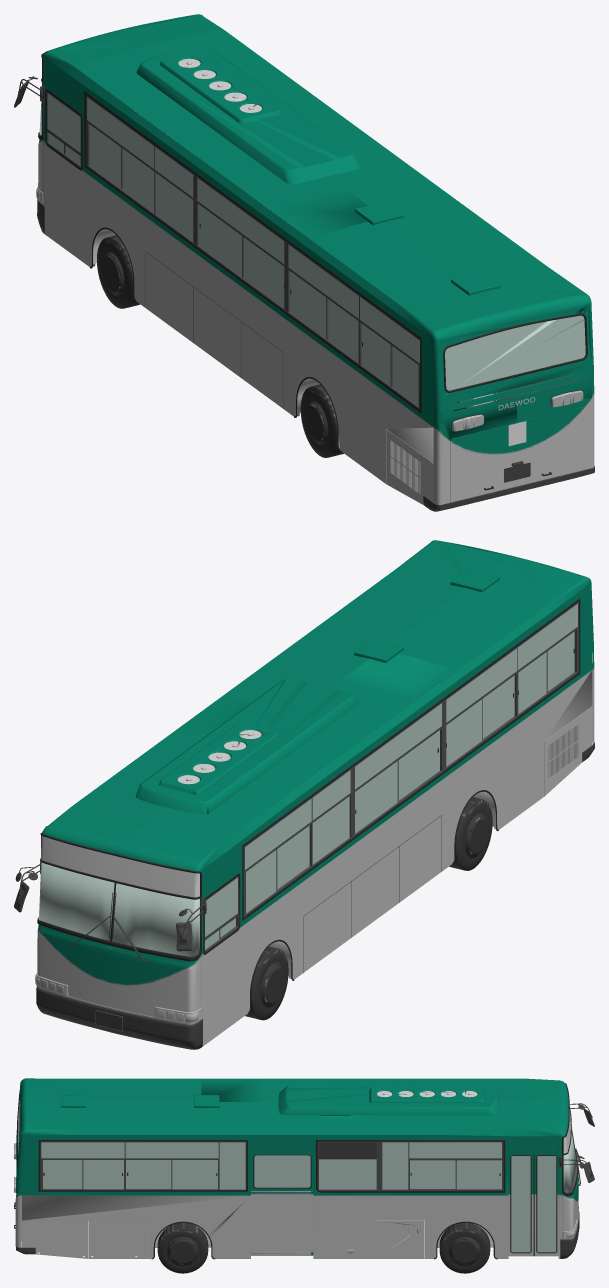
The model's file is Bus_mid.glb.
The picture shows the model from 3 angles, top to bottom: view 1: azimuth 30°, elevation 25°; view 2: azimuth 150°, elevation 25°; view 3: azimuth 270°, elevation 25°; orthographic projection. The views are drawn at different scales.
Parts seen in each view (by area): view 1: Bus_1; view 2: Bus_1; view 3: Bus_1.
Boxes of the visible parts, x1,y1,x2,y2 form: Bus_1: [14, 14, 594, 511]; Bus_1: [14, 540, 594, 1049]; Bus_1: [14, 1078, 594, 1273].
Size of the model in its own units: 3.37 by 3.94 by 13.48.
Materials: 1 (1 with a texture image).
